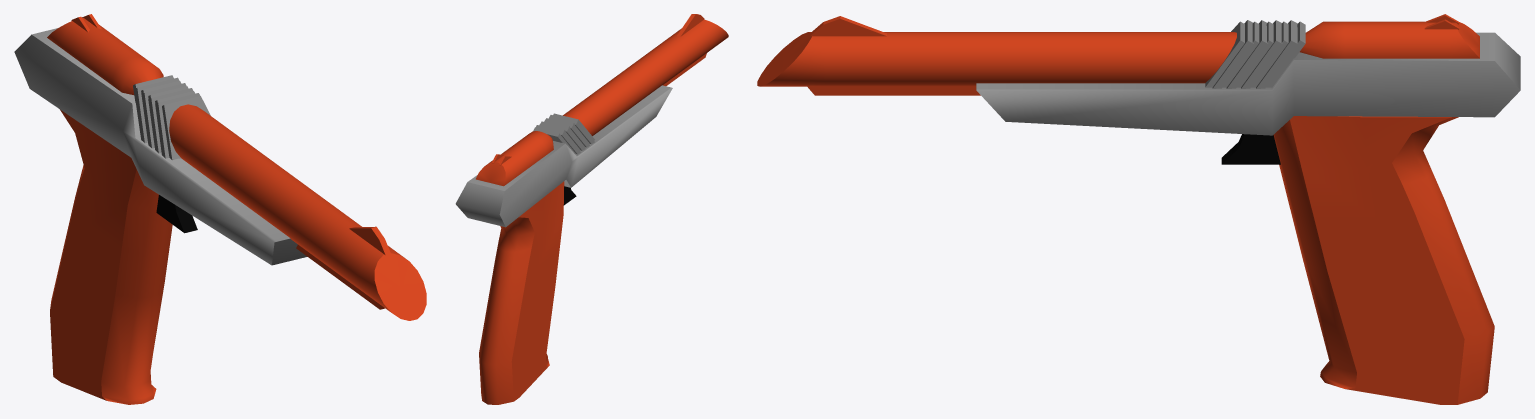
File: nintendogun.obj
3 renders of one model, left to right at view 1: azimuth 30°, elevation 25°; view 2: azimuth 150°, elevation 25°; view 3: azimuth 270°, elevation 25°, orthographic. The views are drawn at different scales.
Parts seen in each view (by area): view 1: Box15, Cylinder01, Box10, Cylinder02, Box16, Box01, Box02, Box14, Box08, Box04, Box06, Box11; view 2: Box15, Box10, Cylinder01, Cylinder02, Box14; view 3: Box15, Box10, Cylinder01, Cylinder02, Box11, Box16, Box14, Box08, Box06.
Boxes of the visible parts, left/top/right/bottom form: Box15: left=50, top=109, right=172, bottom=404; Cylinder01: left=169, top=104, right=426, bottom=320; Box10: left=14, top=28, right=307, bottom=265; Cylinder02: left=47, top=17, right=163, bottom=94; Box16: left=156, top=195, right=197, bottom=233; Box01: left=162, top=96, right=210, bottom=159; Box02: left=155, top=93, right=200, bottom=158; Box14: left=349, top=226, right=390, bottom=255; Box08: left=134, top=77, right=179, bottom=143; Box04: left=148, top=88, right=193, bottom=153; Box06: left=141, top=83, right=186, bottom=148; Box11: left=296, top=244, right=384, bottom=309; Box15: left=479, top=181, right=564, bottom=404; Box10: left=455, top=85, right=672, bottom=227; Cylinder01: left=563, top=19, right=728, bottom=135; Cylinder02: left=476, top=131, right=553, bottom=186; Box14: left=677, top=14, right=704, bottom=36; Box15: left=1273, top=116, right=1494, bottom=404; Box10: left=976, top=32, right=1520, bottom=135; Cylinder01: left=757, top=32, right=1236, bottom=86; Cylinder02: left=1300, top=21, right=1479, bottom=58; Box11: left=807, top=86, right=980, bottom=95; Box16: left=1221, top=134, right=1280, bottom=164; Box14: left=810, top=16, right=886, bottom=36; Box08: left=1256, top=20, right=1297, bottom=88; Box06: left=1241, top=20, right=1282, bottom=88.
Size of the model in its own units: 16.77 by 86.53 by 159.
